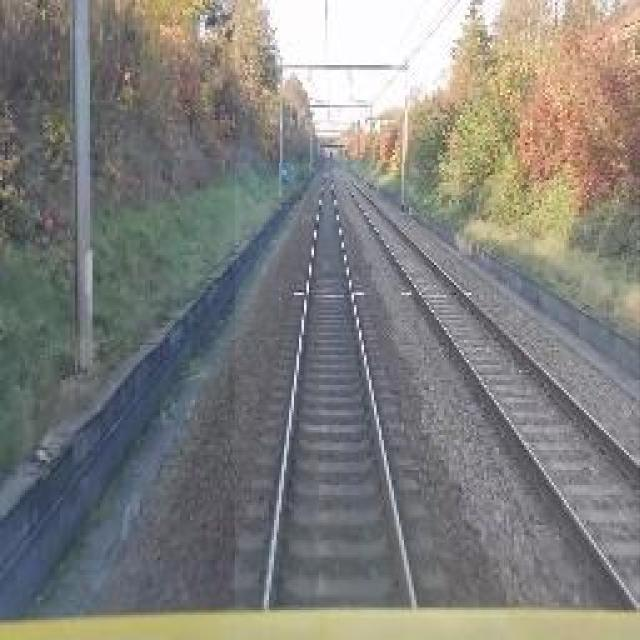rail: (333, 176, 640, 619), (236, 165, 460, 610)
